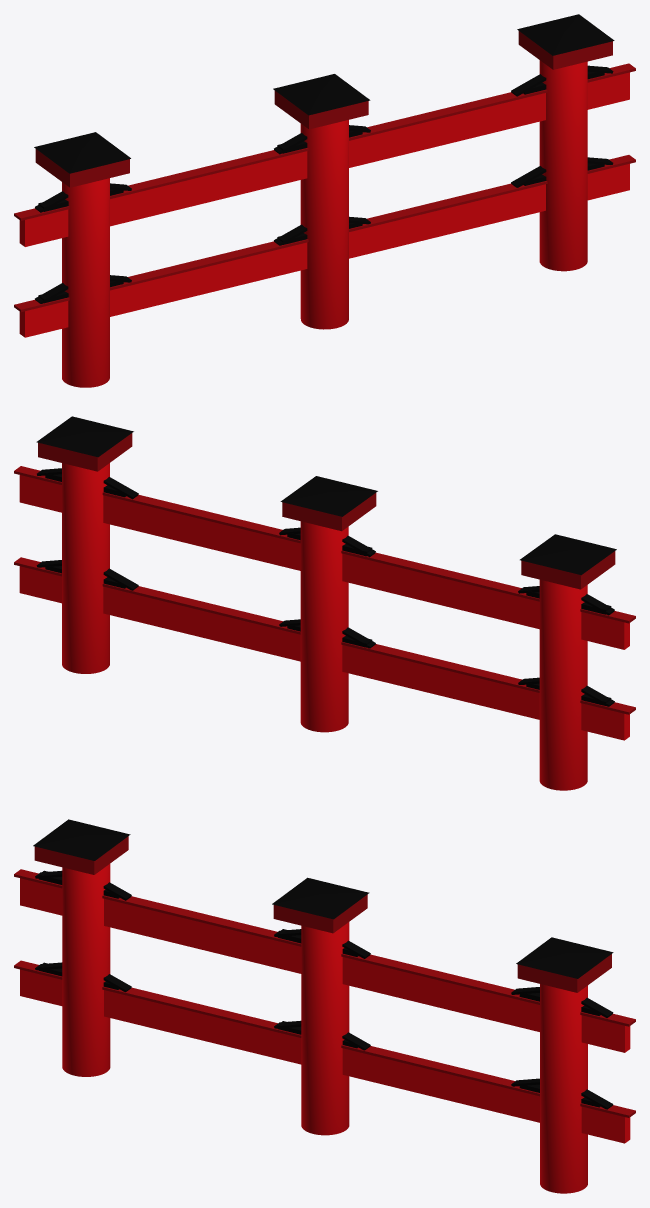
The model's file is fence.glb.
3 renders of one model, top to bottom at view 1: azimuth 30°, elevation 25°; view 2: azimuth 150°, elevation 25°; view 3: azimuth 330°, elevation 25°, orthographic.
Visible parts, largest first — view 1: Cube.143_135, Cube.146_134, Cylinder.013_154, Cylinder.011_164, Cylinder.012_155, Cube.140_136, Cube.139_137, Cube.097_151, Cube.086_157, Cube.096_152, Cube.098_150, Cube.095_153 (+1 smaller); view 2: Cube.143_135, Cube.146_134, Cylinder.012_155, Cylinder.011_164, Cylinder.013_154, Cube.140_136, Cube.139_137, Cube.097_151, Cube.096_152, Cube.086_157, Cube.098_150, Cube.087_156 (+1 smaller); view 3: Cube.143_135, Cube.146_134, Cylinder.011_164, Cylinder.012_155, Cylinder.013_154, Cube.140_136, Cube.139_137, Cube.096_152, Cube.086_157, Cube.097_151, Cube.098_150, Cube.087_156 (+1 smaller).
Boxes of the visible parts, left/top/right/bottom form: Cube.143_135: left=19, top=72, right=629, bottom=246; Cube.146_134: left=19, top=163, right=629, bottom=337; Cylinder.013_154: left=539, top=60, right=587, bottom=271; Cylinder.011_164: left=300, top=120, right=348, bottom=329; Cylinder.012_155: left=62, top=178, right=109, bottom=387; Cube.140_136: left=14, top=63, right=635, bottom=220; Cube.139_137: left=14, top=155, right=635, bottom=312; Cube.097_151: left=517, top=14, right=614, bottom=55; Cube.086_157: left=273, top=74, right=370, bottom=115; Cube.096_152: left=34, top=132, right=130, bottom=173; Cube.098_150: left=518, top=31, right=612, bottom=69; Cube.095_153: left=35, top=149, right=129, bottom=187; Cube.143_135: left=19, top=475, right=629, bottom=649; Cube.146_134: left=19, top=566, right=629, bottom=740; Cylinder.012_155: left=539, top=579, right=587, bottom=790; Cylinder.011_164: left=300, top=521, right=348, bottom=732; Cylinder.013_154: left=62, top=463, right=109, bottom=673; Cube.140_136: left=14, top=466, right=635, bottom=623; Cube.139_137: left=14, top=557, right=635, bottom=714; Cube.097_151: left=36, top=416, right=133, bottom=457; Cube.096_152: left=520, top=534, right=616, bottom=575; Cube.086_157: left=280, top=476, right=377, bottom=516; Cube.098_150: left=38, top=433, right=132, bottom=471; Cube.087_156: left=282, top=493, right=376, bottom=531; Cube.143_135: left=20, top=878, right=630, bottom=1052; Cube.146_134: left=20, top=969, right=630, bottom=1143; Cylinder.011_164: left=301, top=922, right=349, bottom=1135; Cylinder.012_155: left=62, top=864, right=110, bottom=1076; Cylinder.013_154: left=540, top=984, right=587, bottom=1193; Cube.140_136: left=14, top=869, right=635, bottom=1026; Cube.139_137: left=14, top=960, right=635, bottom=1117; Cube.096_152: left=33, top=819, right=130, bottom=860; Cube.086_157: left=272, top=877, right=369, bottom=919; Cube.097_151: left=516, top=937, right=613, bottom=978; Cube.098_150: left=517, top=954, right=611, bottom=992; Cube.087_156: left=273, top=894, right=367, bottom=933.
Size of the model in its own units: 10.3 by 3.69 by 1.04.
